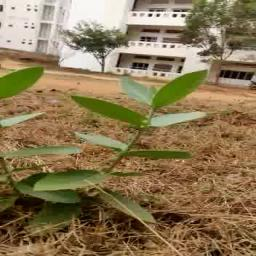CALOTROPIS: (0, 51, 196, 223)
